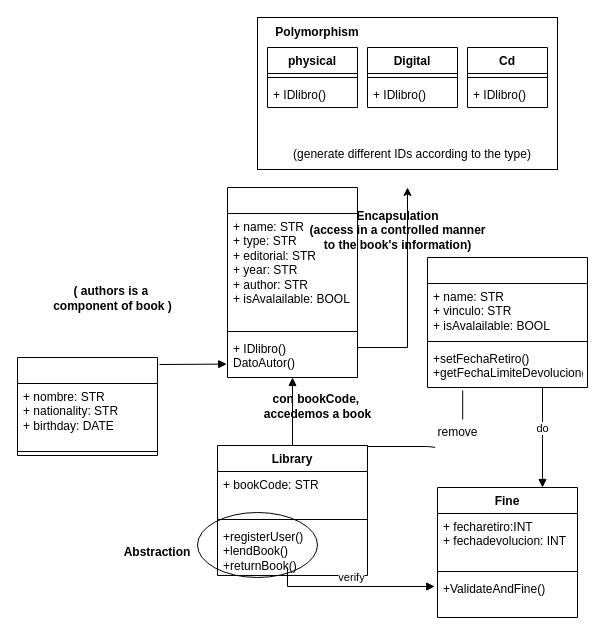
This 606x638 diagram has some shape labels left out. Each missing label, with the box of its shape:
Authors: (16, 356, 158, 456)
Book: (226, 186, 358, 378)
Readers: (426, 256, 588, 388)
